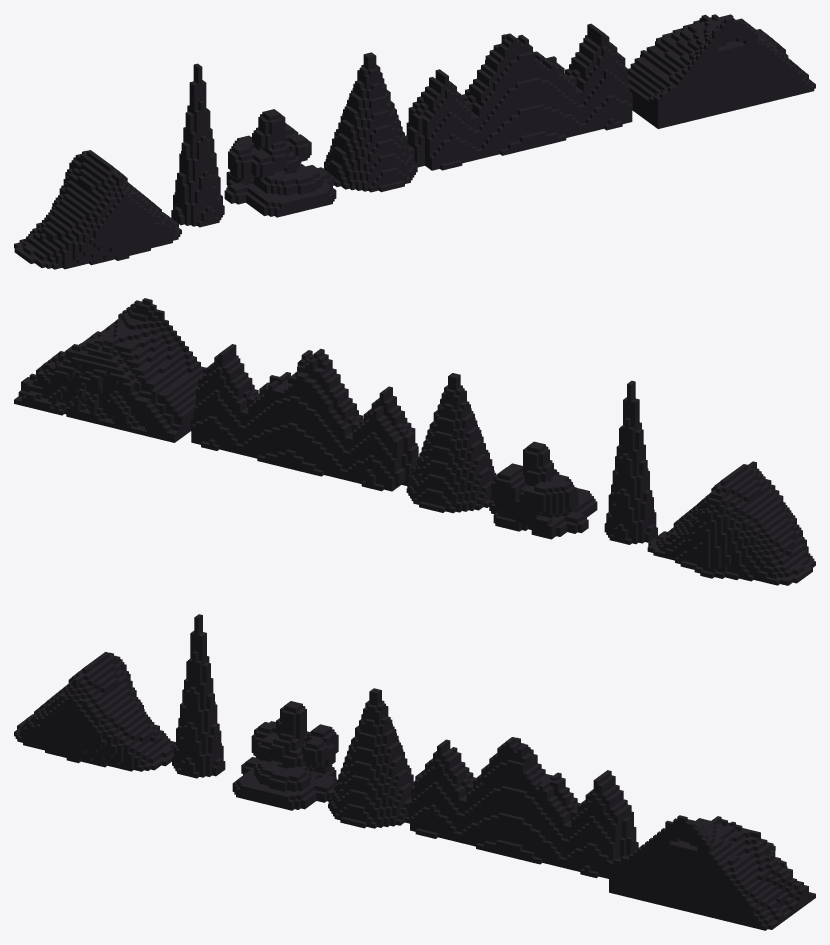
File: Rocks.glb
3 renders of one model, top to bottom at view 1: azimuth 30°, elevation 25°; view 2: azimuth 150°, elevation 25°; view 3: azimuth 330°, elevation 25°, orthographic.
Parts seen in each view (by area): view 1: Untitled.022, Untitled.007, Untitled.025, Untitled.021, Untitled.023, Untitled.020; view 2: Untitled.022, Untitled.007, Untitled.025, Untitled.023, Untitled.021, Untitled.020; view 3: Untitled.022, Untitled.007, Untitled.025, Untitled.021, Untitled.023, Untitled.020.
Boxes of the visible parts, box(x1,y1,x2,y2) form: Untitled.022: box(405, 23, 632, 170); Untitled.007: box(627, 14, 815, 128); Untitled.025: box(14, 150, 181, 269); Untitled.021: box(224, 109, 336, 217); Untitled.023: box(323, 52, 417, 192); Untitled.020: box(171, 63, 224, 227); Untitled.022: box(191, 344, 419, 491); Untitled.007: box(14, 298, 206, 442); Untitled.025: box(647, 461, 815, 585); Untitled.023: box(406, 373, 496, 513); Untitled.021: box(489, 441, 597, 539); Untitled.020: box(604, 380, 657, 544); Untitled.022: box(407, 737, 638, 878); Untitled.007: box(609, 815, 815, 930); Untitled.025: box(14, 652, 175, 771); Untitled.021: box(232, 701, 338, 810); Untitled.023: box(328, 688, 414, 828); Untitled.020: box(172, 614, 225, 778).
Size of the model in its own units: 19.2 by 3.6 by 2.3.
Materials: 6 (6 with a texture image).
